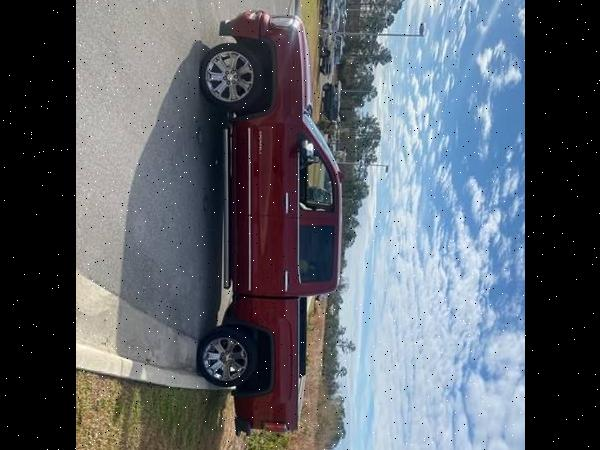Front_Bumper: (219, 8, 267, 38)
Front_Fender: (234, 24, 304, 123)
Front_Left_Door: (234, 123, 300, 215)
Front_Left_Window: (298, 122, 340, 220)
Left_Headlight: (267, 14, 297, 28)
Left_Taillight: (260, 422, 287, 432)
Rear_Bumper: (232, 418, 251, 437)
Rear_Fender: (233, 296, 299, 430)
Rear_Left_Door: (232, 214, 300, 298)
Rear_Left_Window: (298, 219, 340, 296)
Wheel: (198, 41, 265, 111), (195, 330, 254, 387)
